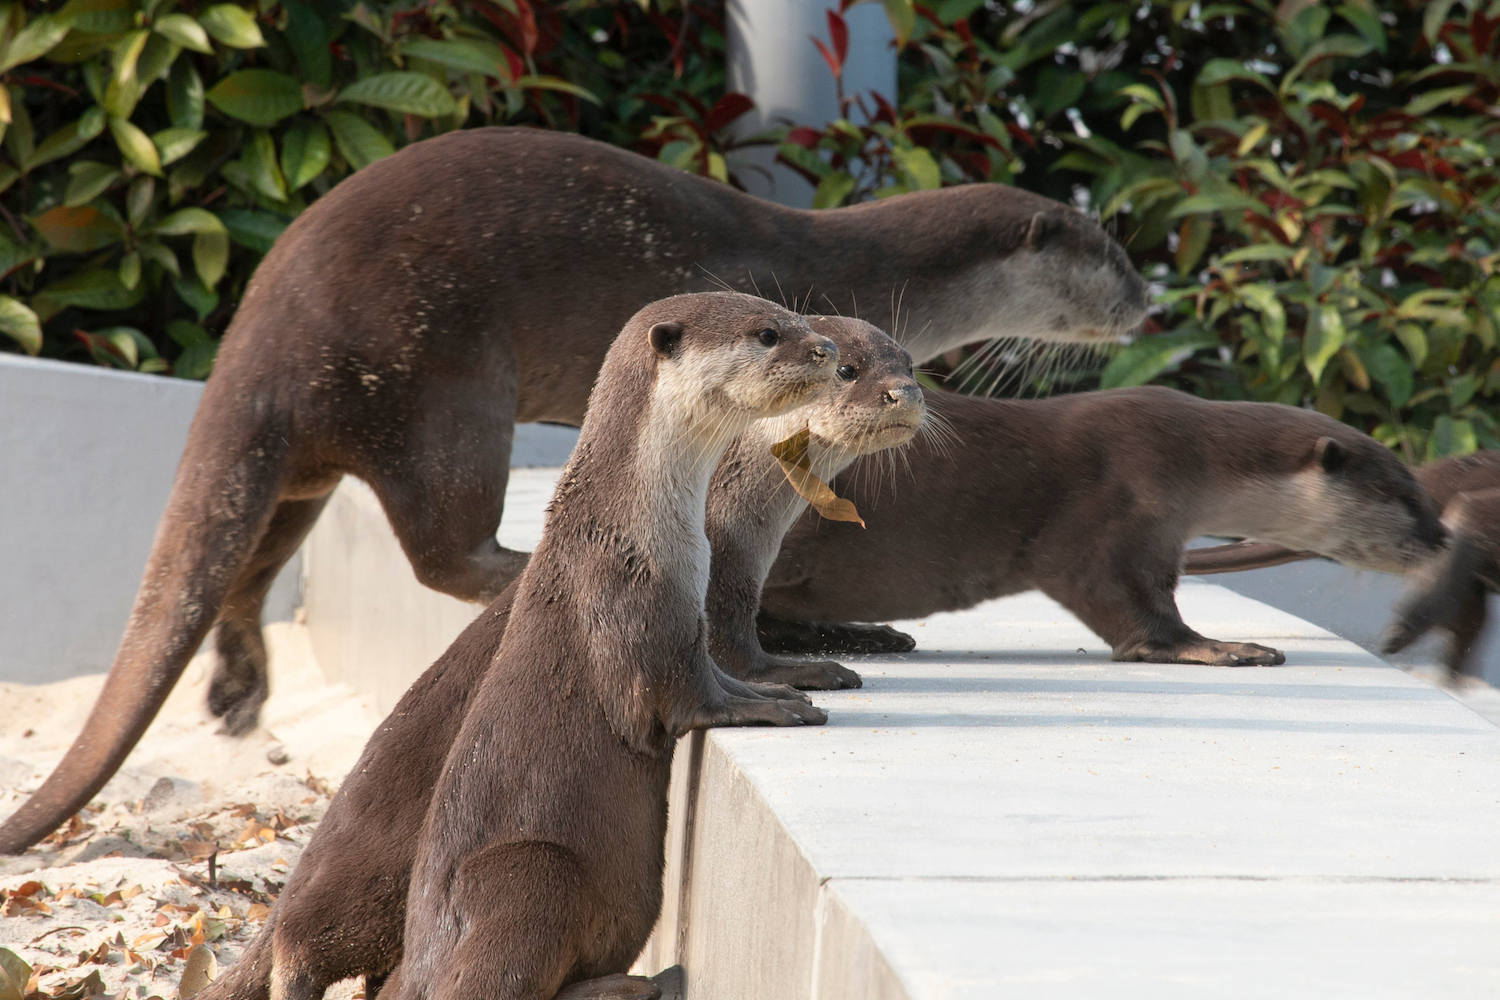otter: (1, 106, 1199, 501), (387, 272, 856, 1000), (529, 384, 1477, 713)
